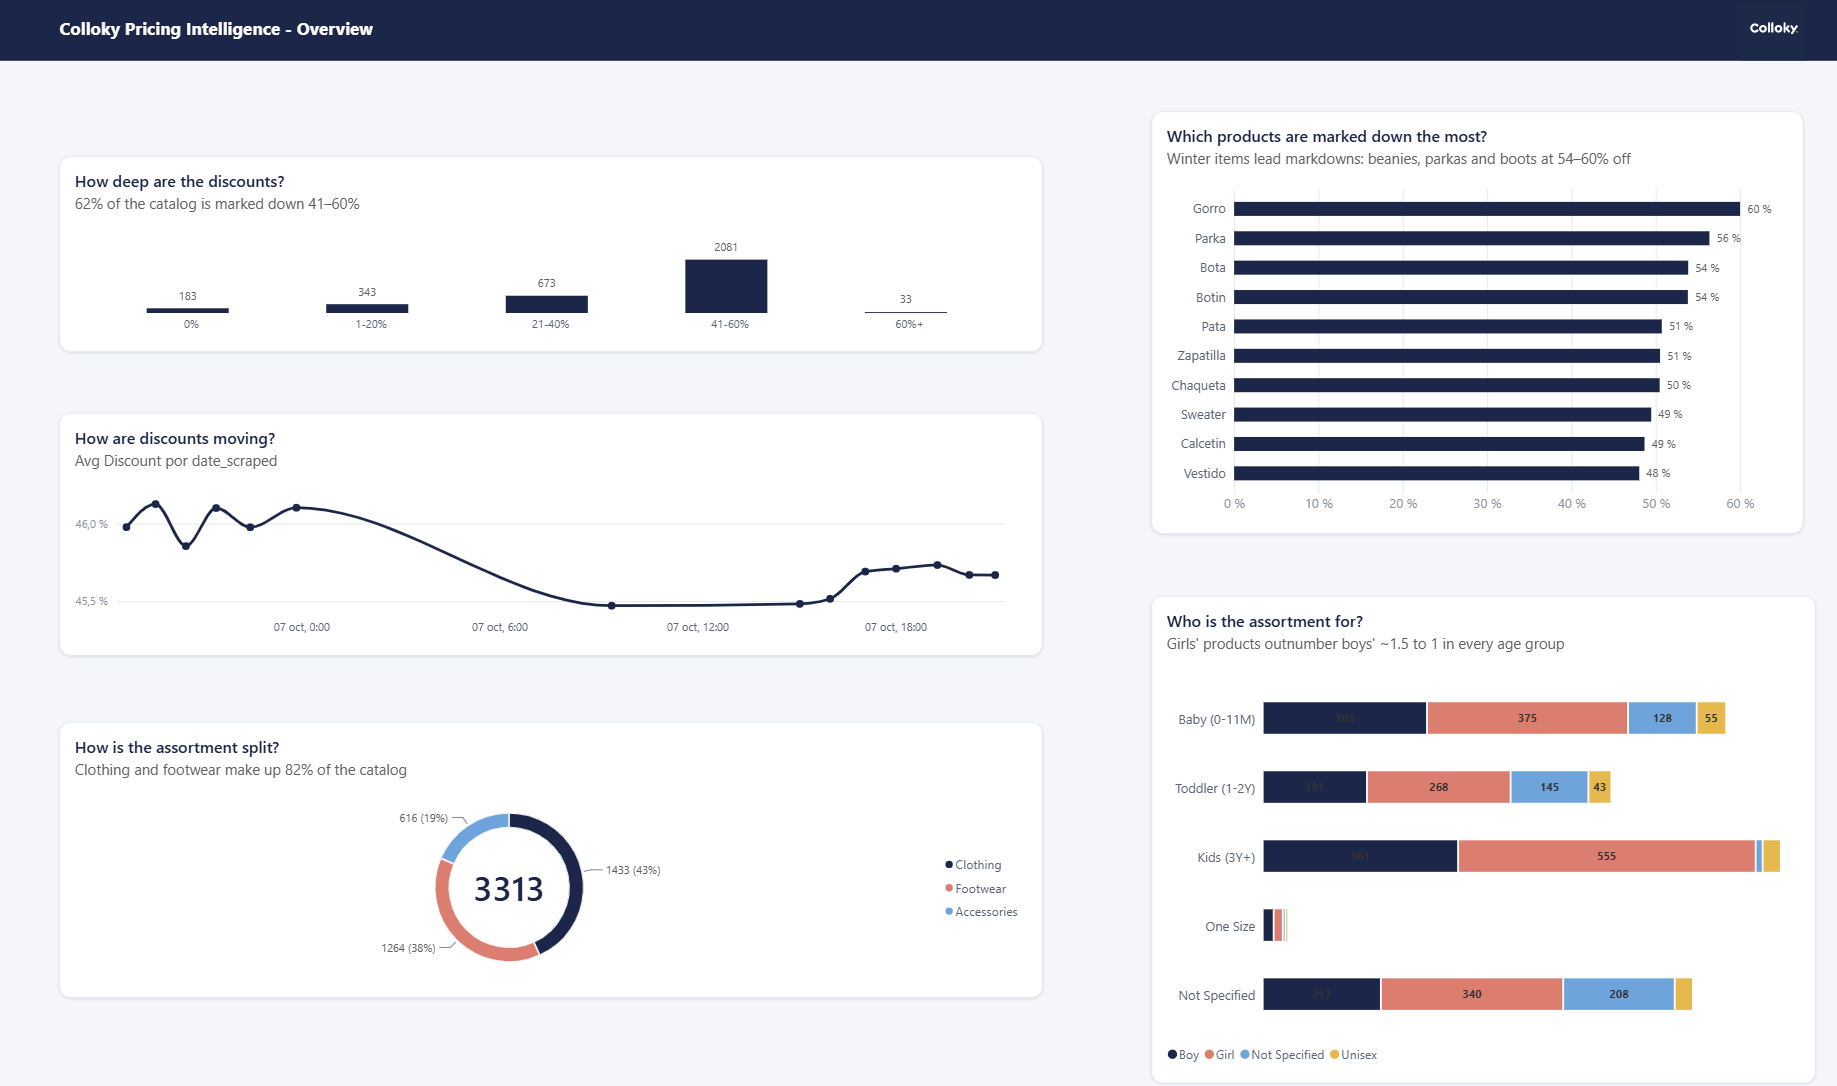

The page's visual inventory and layout, read from the dashboard file:
{"tool":"powerbi","page":{"name":"Overview","canvas":[2050,1300],"ordinal":0},"visuals":[{"type":"shape","box":[0,0,2050,70],"z":0},{"type":"donutChart","title":"How is the assortment split?","fields":{"Category":["colloky_snapshots.category"],"Y":["_colloky_measures.Products"]},"box":[73.8,787.6,1066.6,299.1],"z":1000},{"type":"clusteredColumnChart","title":"How deep are the discounts?","fields":{"Category":["colloky_snapshots.discount_bucket"],"Y":["_colloky_measures.Products"]},"box":[73.8,173.9,1066.7,212.2],"z":2000},{"type":"clusteredBarChart","title":"Which products are marked down the most?","fields":{"Category":["colloky_snapshots.product_type"],"Y":["_colloky_measures.Avg Discount (30+ SKUs)"]},"box":[1257.9,125.5,707,458.1],"z":3000},{"type":"lineChart","title":"How are discounts moving?","fields":{"Category":["colloky_snapshots.date_scraped"],"Y":["_colloky_measures.Avg Discount"]},"box":[73.8,452.2,1066.7,263.2],"z":4000},{"type":"barChart","title":"Who is the assortment for?","fields":{"Category":["colloky_snapshots.age_segment"],"Series":["colloky_snapshots.gender"],"Y":["_colloky_measures.Products"]},"box":[1257.9,651,720.9,529],"z":5000},{"type":"textbox","box":[73.2,22.8,385.8,24.4],"z":6000},{"type":"image","box":[1849.4,0,169.2,69.9],"z":7000}]}

Visuals, with their boxes on the page's 2050x1300 design canvas (x1, y1, x2, y2). These are canvas units, not pixel positions in the 1837x1086 screenshot, which may show the page scaled, cropped or inside an application window:
shape: [x1=0, y1=0, x2=2050, y2=70]
"How is the assortment split?" donutChart: [x1=74, y1=788, x2=1140, y2=1087]
"How deep are the discounts?" clusteredColumnChart: [x1=74, y1=174, x2=1140, y2=386]
"Which products are marked down the most?" clusteredBarChart: [x1=1258, y1=126, x2=1965, y2=584]
"How are discounts moving?" lineChart: [x1=74, y1=452, x2=1140, y2=715]
"Who is the assortment for?" barChart: [x1=1258, y1=651, x2=1979, y2=1180]
textbox: [x1=73, y1=23, x2=459, y2=47]
image: [x1=1849, y1=0, x2=2019, y2=70]
